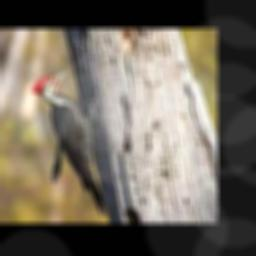Woodpecker: (31, 65, 107, 216)
